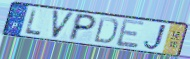D: (92, 16, 120, 45)
E: (115, 18, 146, 49)
J: (142, 23, 168, 51)
L: (24, 7, 43, 37)
P: (66, 12, 99, 41)
V: (51, 9, 76, 40)
